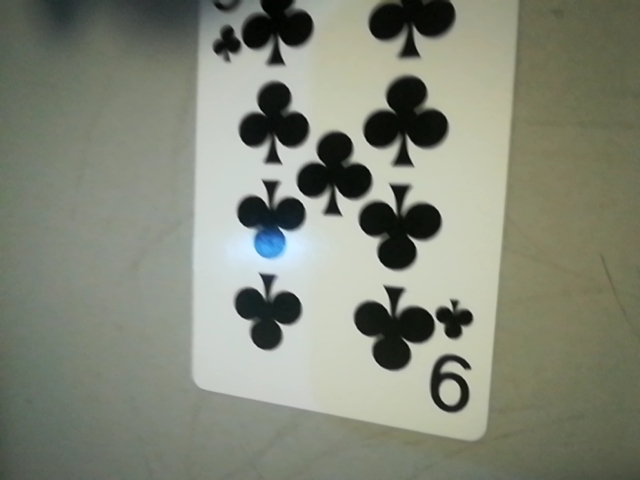mh 9: (425, 296, 490, 422)
